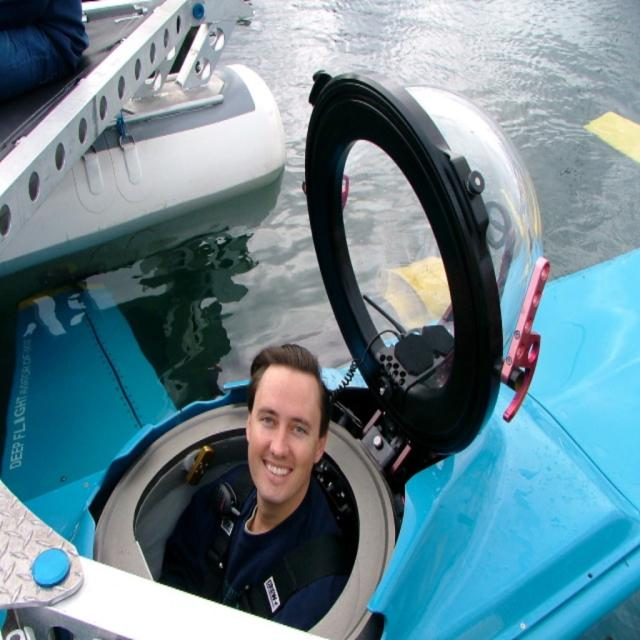Boat: (0, 65, 639, 639), (0, 0, 318, 281)
